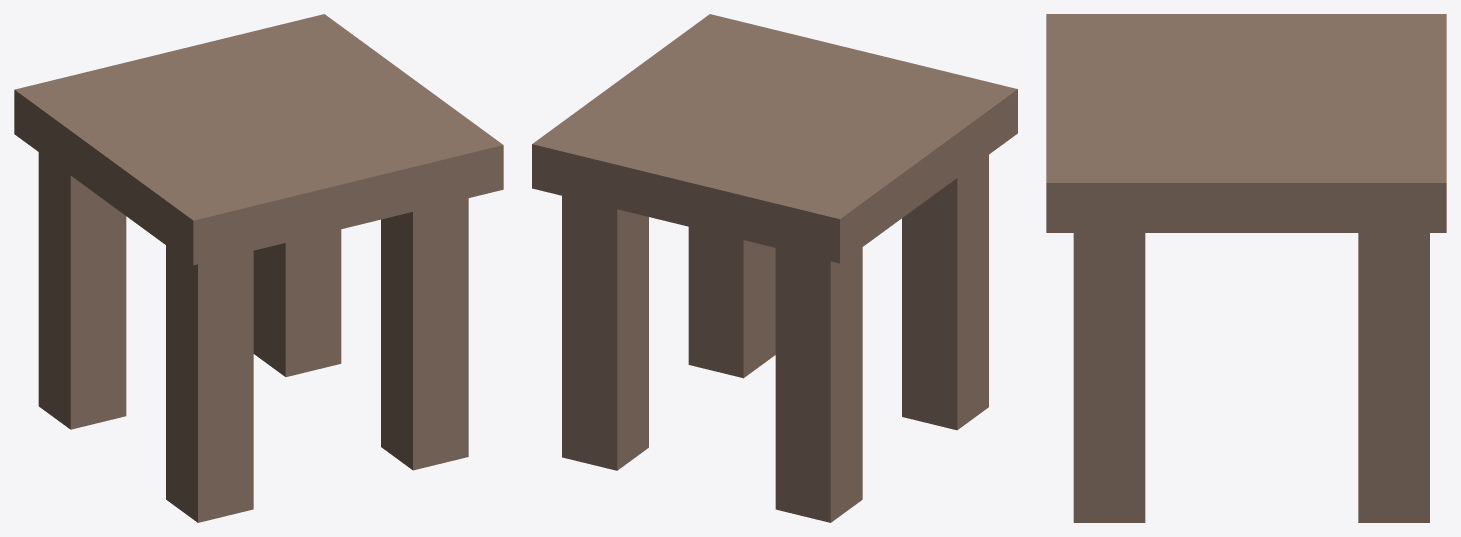
The model's file is nightstand.fbx.
The picture shows the model from 3 angles, left to right: view 1: azimuth 30°, elevation 25°; view 2: azimuth 150°, elevation 25°; view 3: azimuth 270°, elevation 25°; orthographic projection. The views are drawn at different scales.
Parts seen in each view (by area): view 1: Cube; view 2: Cube; view 3: Cube.
Part boxes in pixels (box(x1,y1,x2,y2)): Cube: box(14, 14, 503, 522); Cube: box(532, 14, 1017, 522); Cube: box(1046, 14, 1446, 522).
Bounding box in the file's own units: 0.7777 × 0.7558 × 0.7777.
1 material, 1 textured.
